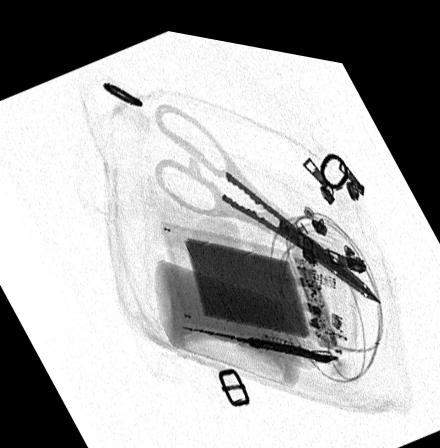Knife: (180, 310, 339, 354)
Powerbank: (160, 209, 340, 342)
Scissors: (153, 97, 384, 291)
